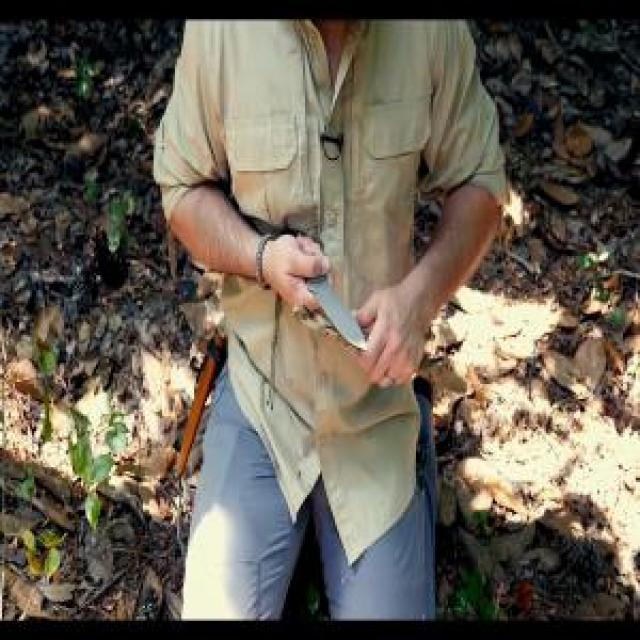knife: (290, 228, 371, 358)
